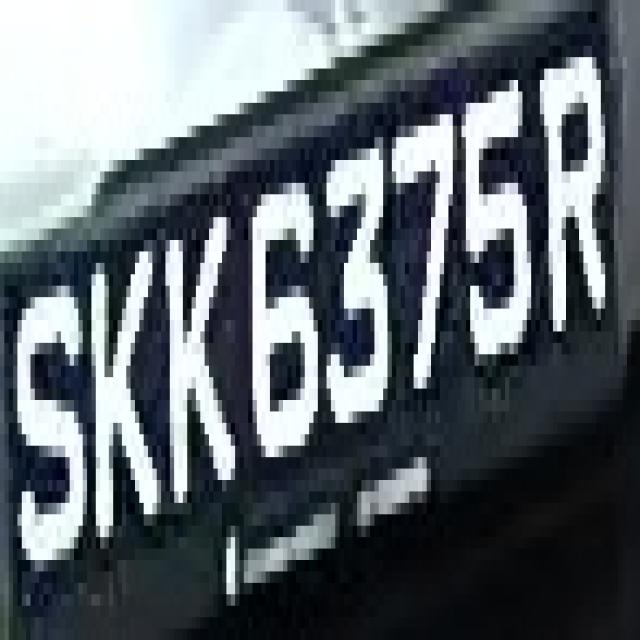3: (305, 137, 392, 492)
5: (461, 46, 540, 354)
6: (235, 137, 327, 492)
7: (370, 80, 457, 400)
K: (78, 194, 165, 560), (157, 160, 235, 526)
R: (531, 46, 614, 354)
S: (13, 251, 87, 583)
